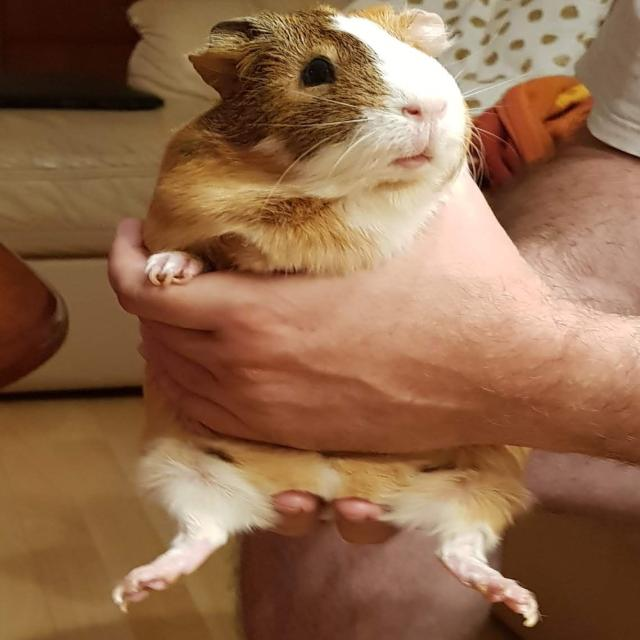guinea pig: (112, 7, 543, 627)
